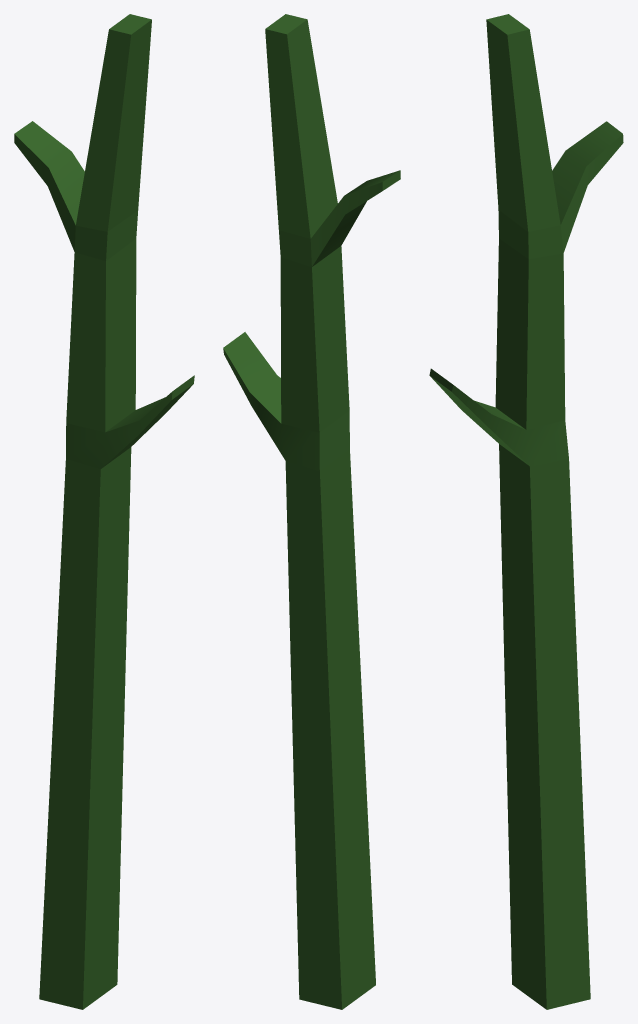
File: bamboo_4.fbx
The picture shows the model from 3 angles, left to right: view 1: azimuth 30°, elevation 25°; view 2: azimuth 210°, elevation 25°; view 3: azimuth 270°, elevation 25°; orthographic projection. The views are drawn at different scales.
Parts seen in each view (by area): view 1: bamboo_4; view 2: bamboo_4; view 3: bamboo_4.
Part boxes in pixels (<box>): bamboo_4: <box>14,14,194,1009</box>; bamboo_4: <box>223,14,400,1009</box>; bamboo_4: <box>429,14,623,1009</box>.
Size of the model in its own units: 49.17 by 438 by 78.45.
